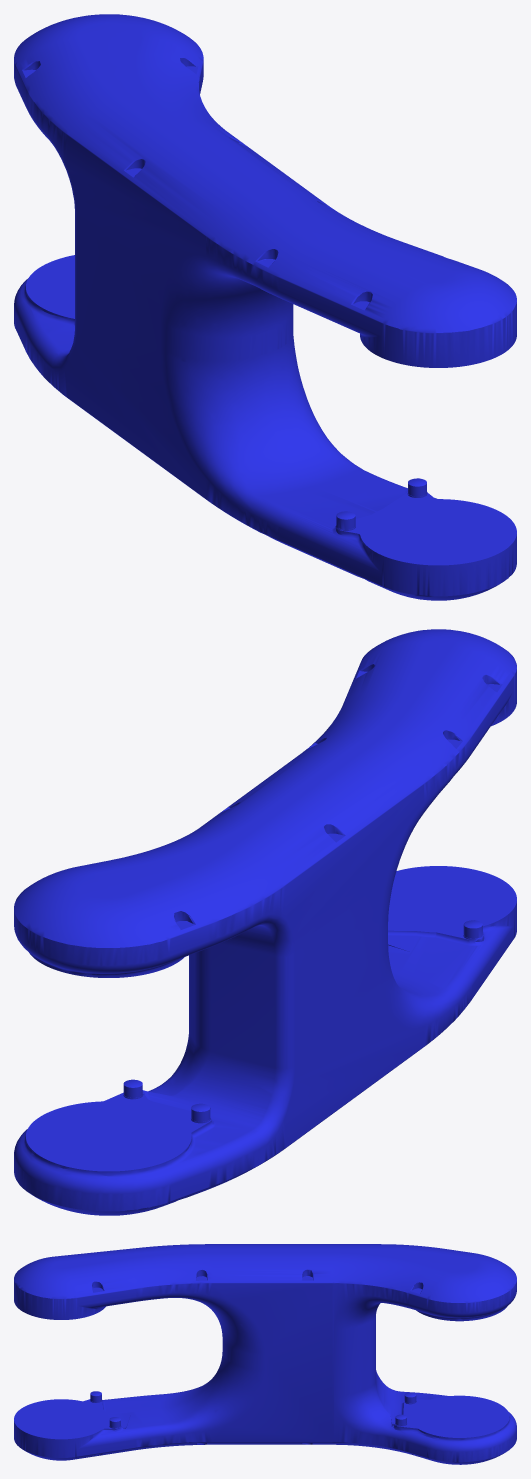
The picture shows the model from 3 angles, top to bottom: view 1: azimuth 30°, elevation 25°; view 2: azimuth 150°, elevation 25°; view 3: azimuth 270°, elevation 25°; orthographic projection. The views are drawn at different scales.
Visible parts, largest first — view 1: /Link2/Link2-mesh/0; view 2: /Link2/Link2-mesh/0; view 3: /Link2/Link2-mesh/0.
Part boxes in pixels (box(x1,y1,x2,y2)): /Link2/Link2-mesh/0: box(14, 14, 516, 600); /Link2/Link2-mesh/0: box(14, 629, 516, 1215); /Link2/Link2-mesh/0: box(14, 1244, 516, 1464).
Size of the model in its own units: 0.149 by 0.23 by 0.562.
